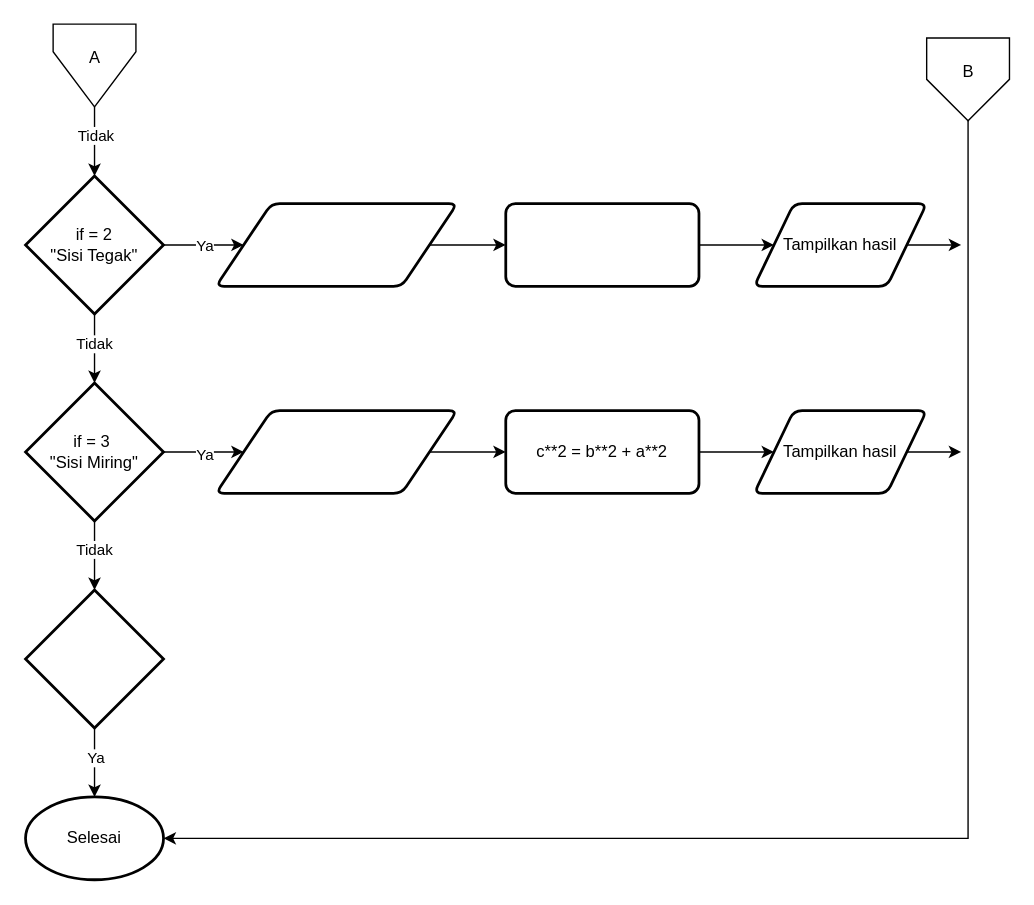
This 1034x905 diagram has some shape labels left out. The centre of each missing label's shape, as x and y in pixels:
b**2 = c**2 - a**2: point 602,244
if = 4 "Keluar": point 93,658
Masukkan sisi miring dan sisi alas: point 336,244
Masukkan sisi tegak dan sisi alas: point 336,451
